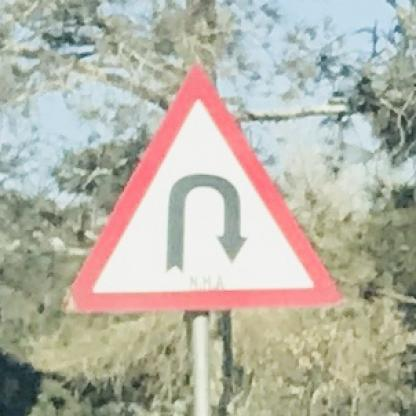U-Turn: (64, 61, 339, 308)
